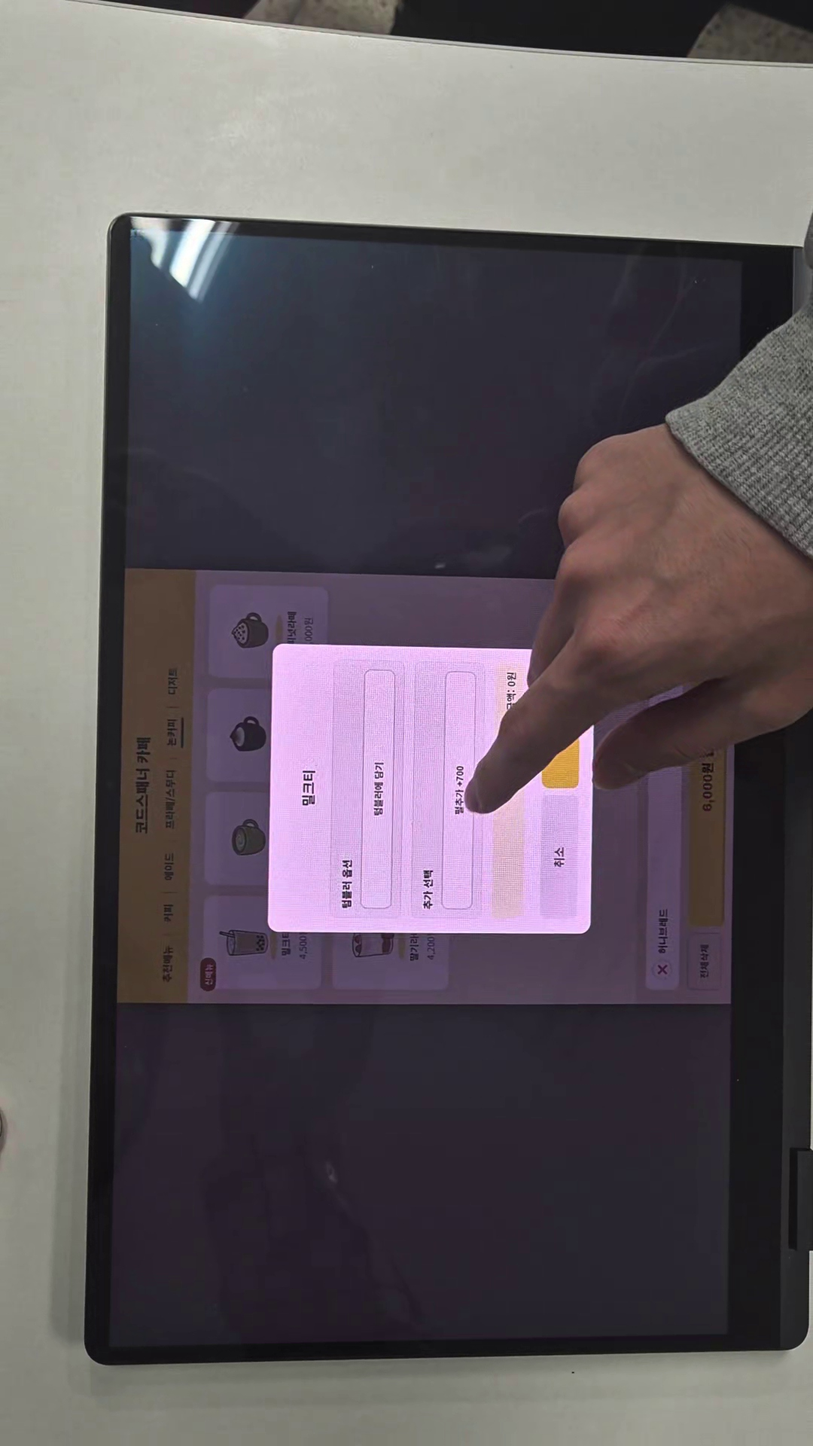action_button: (539, 794, 580, 918)
option_button: (363, 669, 393, 908), (446, 671, 476, 906)
popup_modal: (268, 641, 593, 933)
